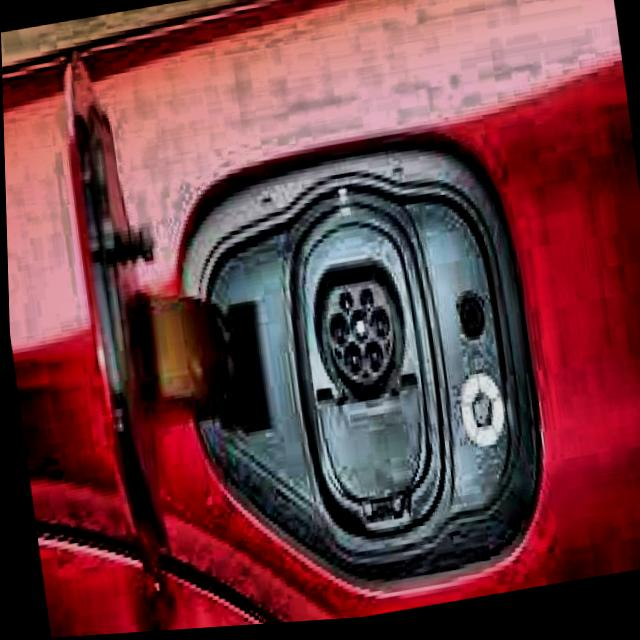inlet: (323, 284, 391, 390)
inlet-above-left: (337, 296, 351, 318)
inlet-above-right: (356, 293, 371, 314)
inlet-below-left: (342, 346, 360, 380)
inlet-below-right: (363, 345, 380, 375)
inlet-center: (349, 314, 366, 349)
inlet-center-left: (327, 318, 344, 351)
inlet-center-right: (369, 310, 387, 345)
